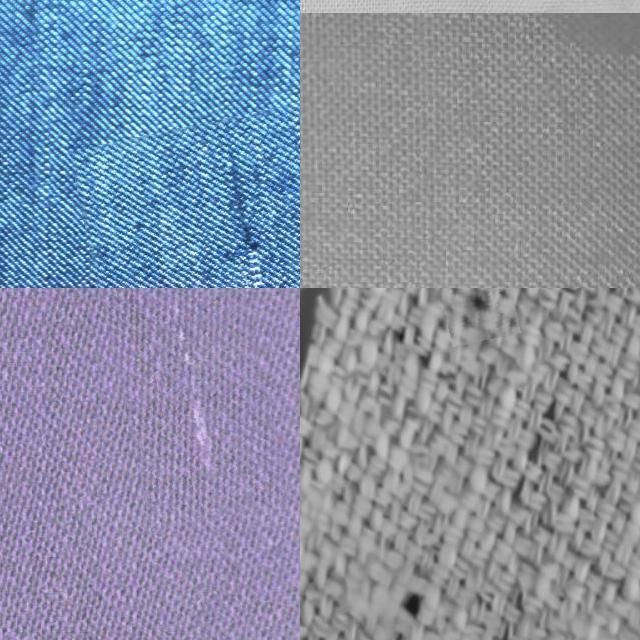other: (385, 561, 453, 640), (439, 288, 517, 344)
stains: (70, 288, 264, 527), (87, 100, 300, 288)
